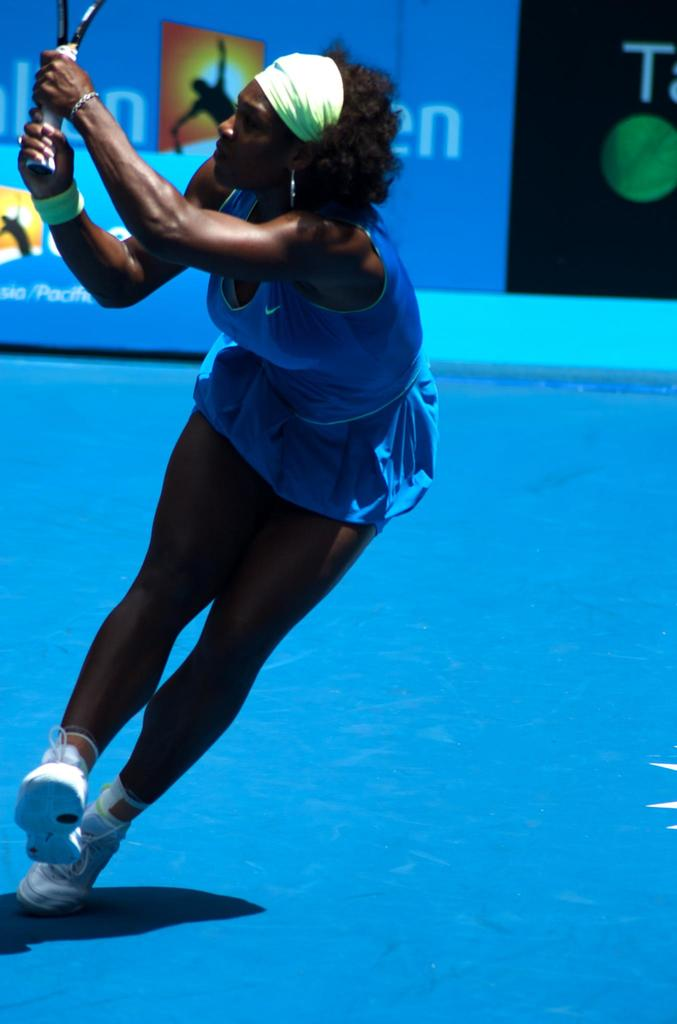Human_hand: (17, 105, 76, 200), (31, 47, 91, 117)
